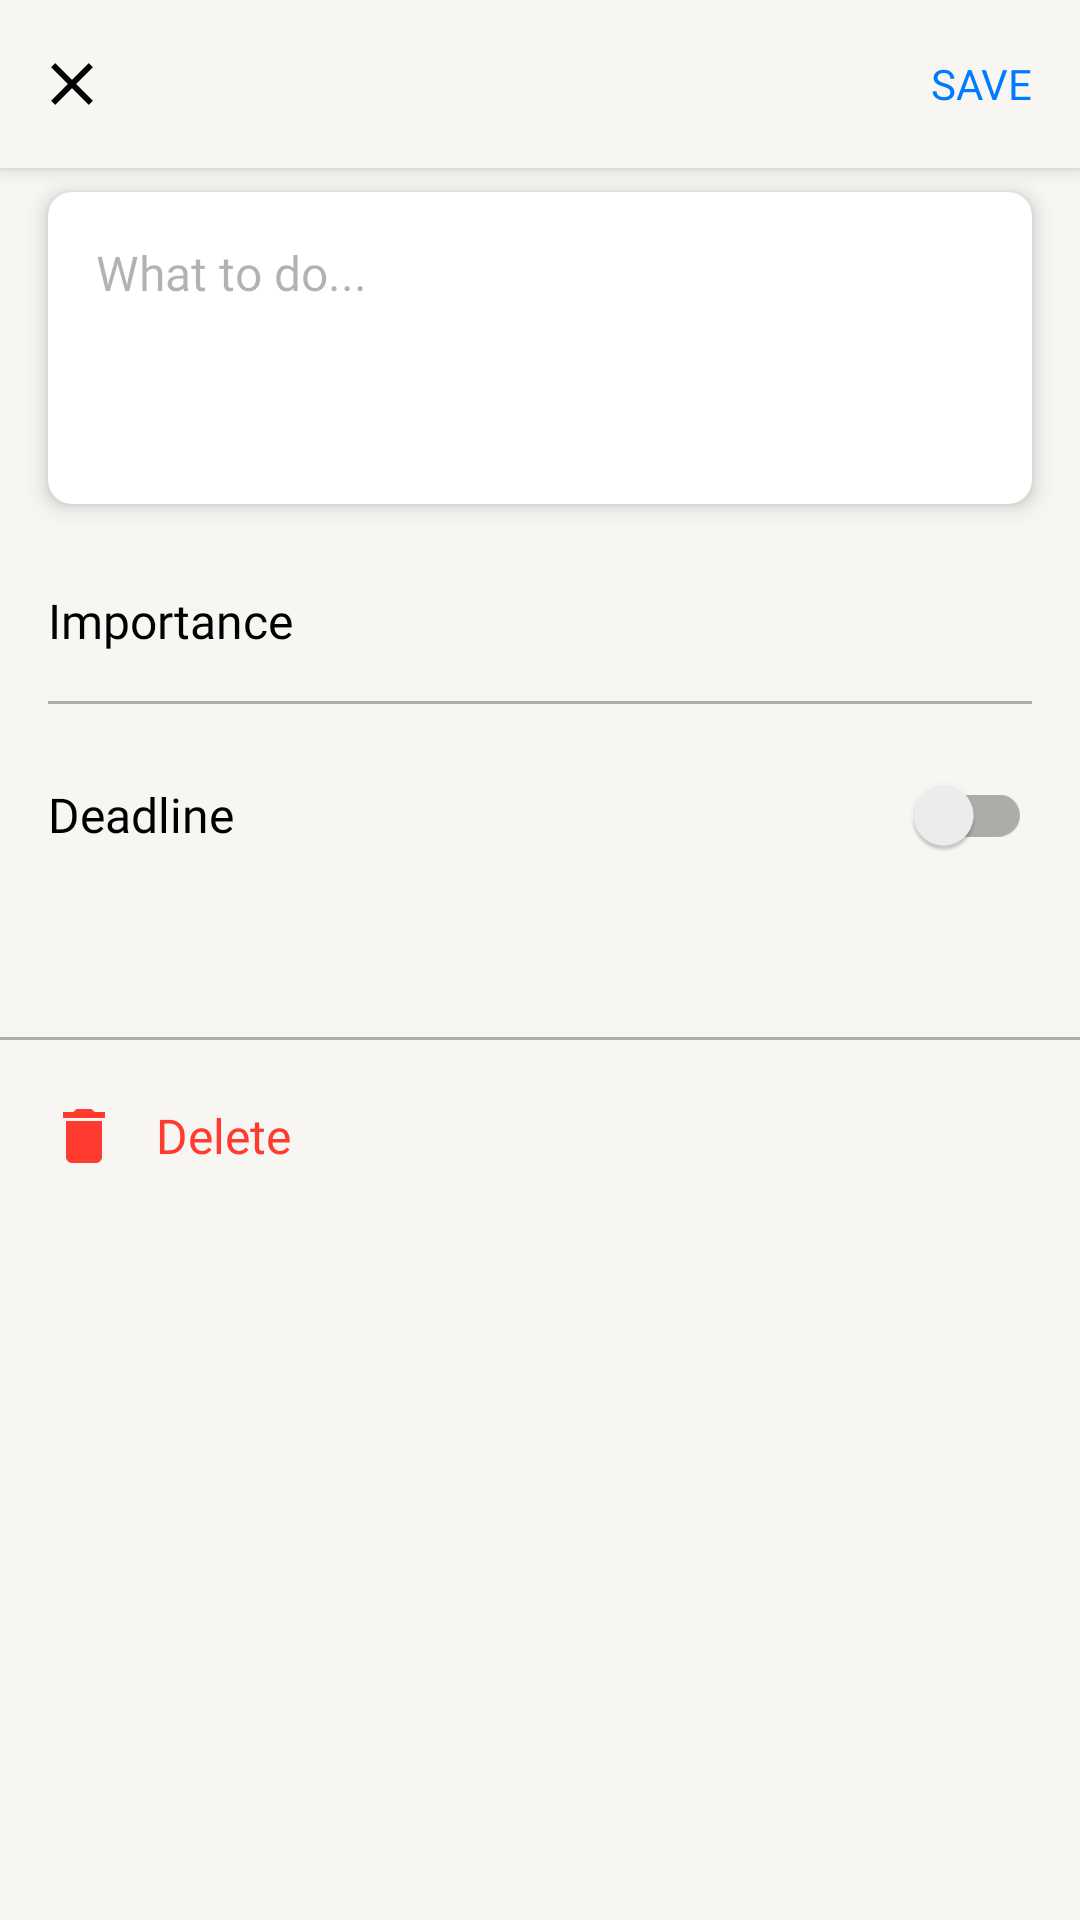

Screen size 1080 × 1920. Icon name, then its box in pixels as (x1, y1, x2, y2):
close: (51, 63, 93, 105)
